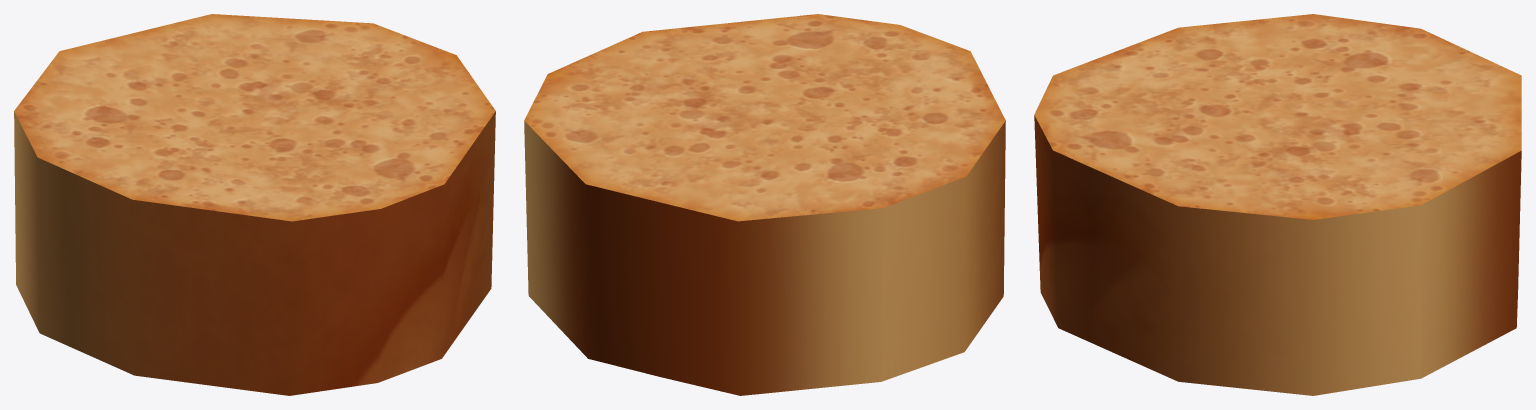
Rendered from Baguette_02_Slice.fbx.
3 views of the same model, side by side, from view 1: azimuth 30°, elevation 25°; view 2: azimuth 150°, elevation 25°; view 3: azimuth 270°, elevation 25° (orthographic).
Parts seen in each view (by area): view 1: Baguette_02_Slice; view 2: Baguette_02_Slice; view 3: Baguette_02_Slice.
Part boxes in pixels (<box>): Baguette_02_Slice: <box>14,14,495,395</box>; Baguette_02_Slice: <box>524,14,1005,395</box>; Baguette_02_Slice: <box>1034,14,1521,395</box>.
Size of the model in its own units: 20 by 8.05 by 20.
